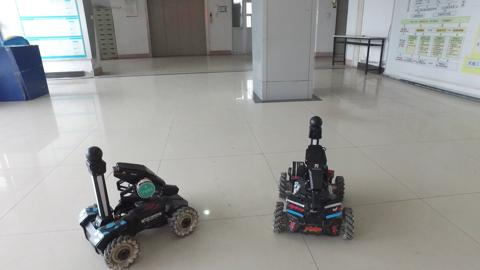chariot: (70, 149, 204, 267), (272, 114, 357, 243)
